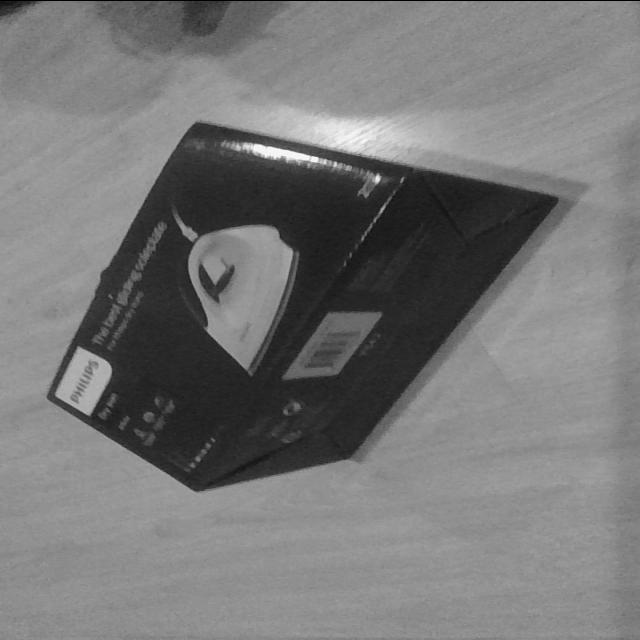IRON: (42, 120, 564, 493)
